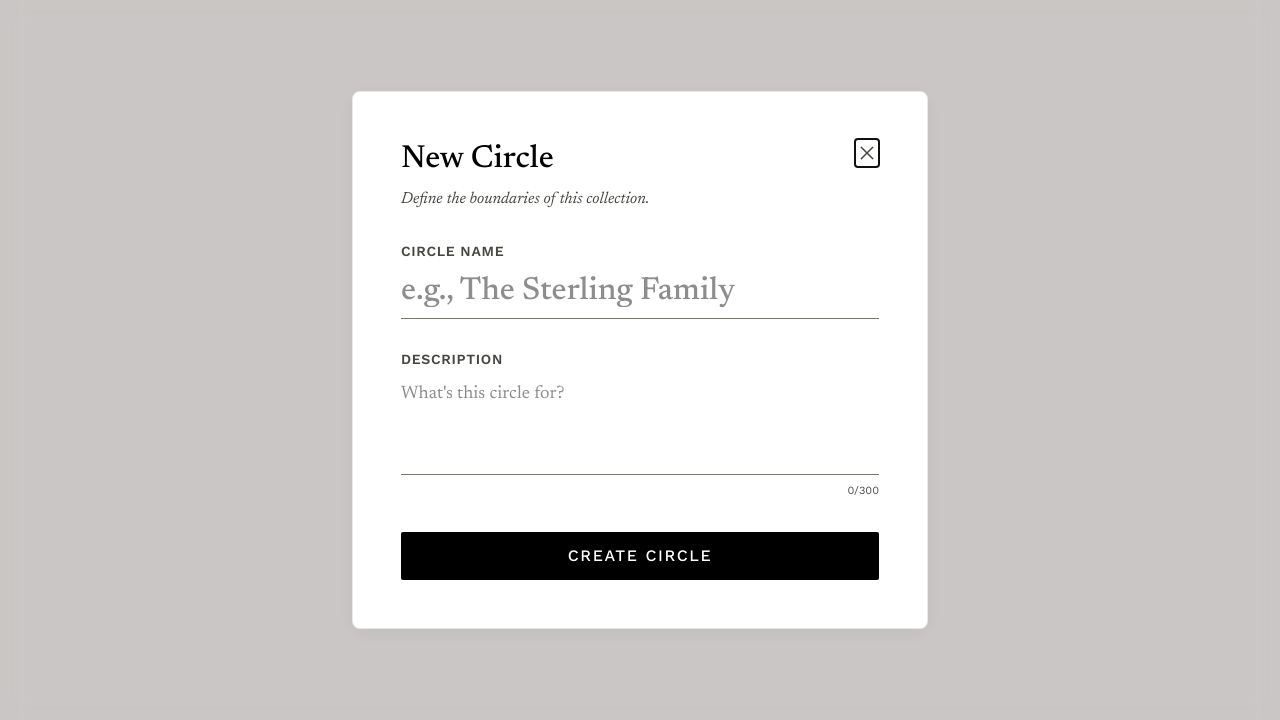
Test: CreateCircleModal › shows a validation error for an empty name
This screenshot has width=1280, height=720.
Click the button "Create Circle": click(640, 556) [401,532,879,580]
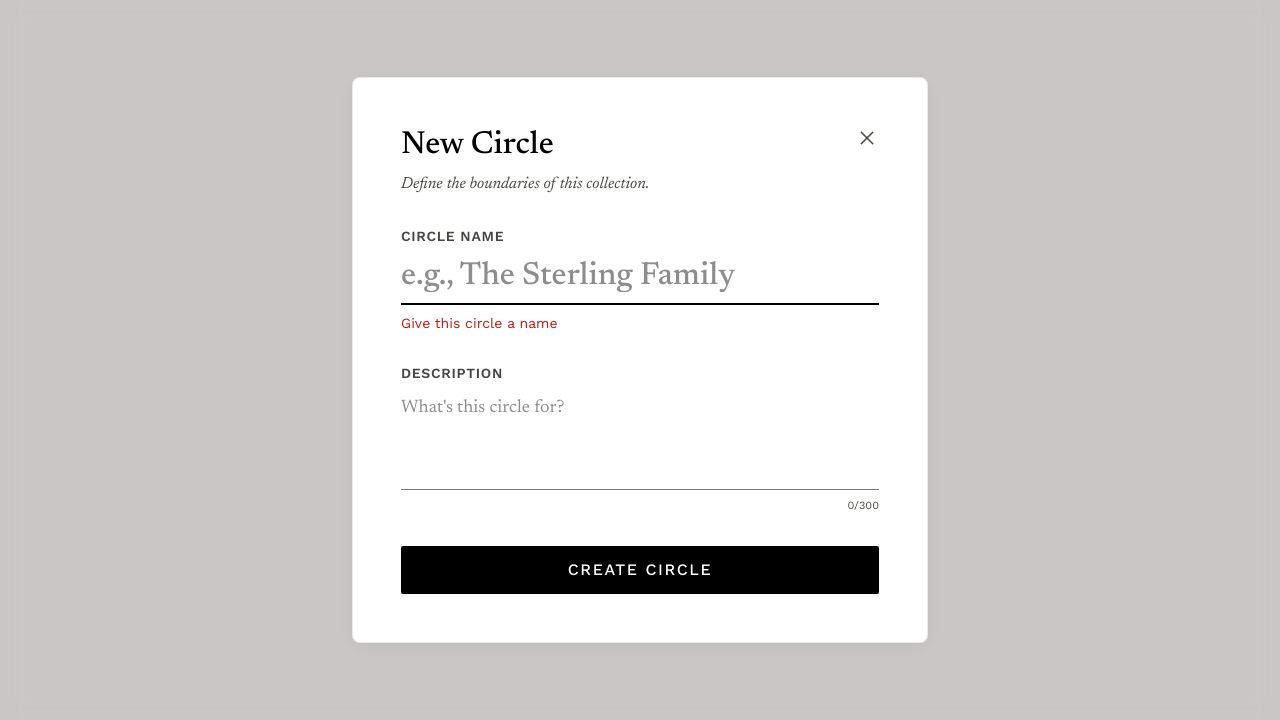
Expected: the text "Give this circle a name" is shown, [401,315,558,331]
